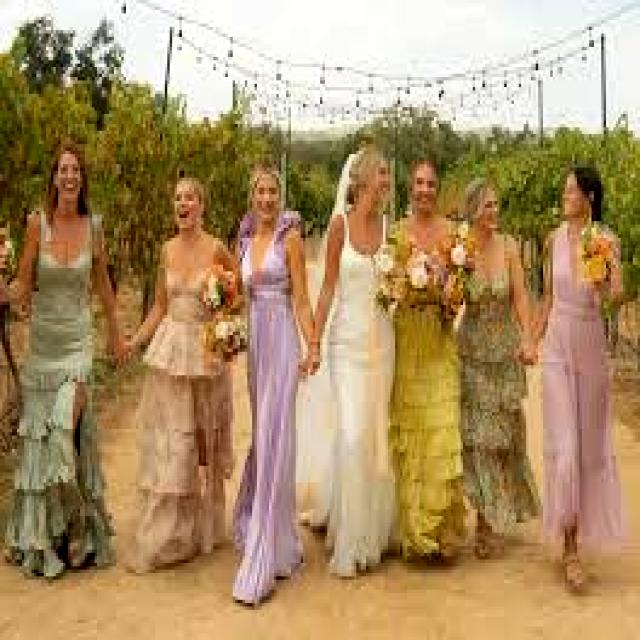dress: (5, 215, 113, 576), (127, 269, 232, 572), (233, 212, 303, 603), (544, 225, 625, 549), (325, 215, 395, 576), (459, 272, 540, 532), (391, 295, 465, 559)
